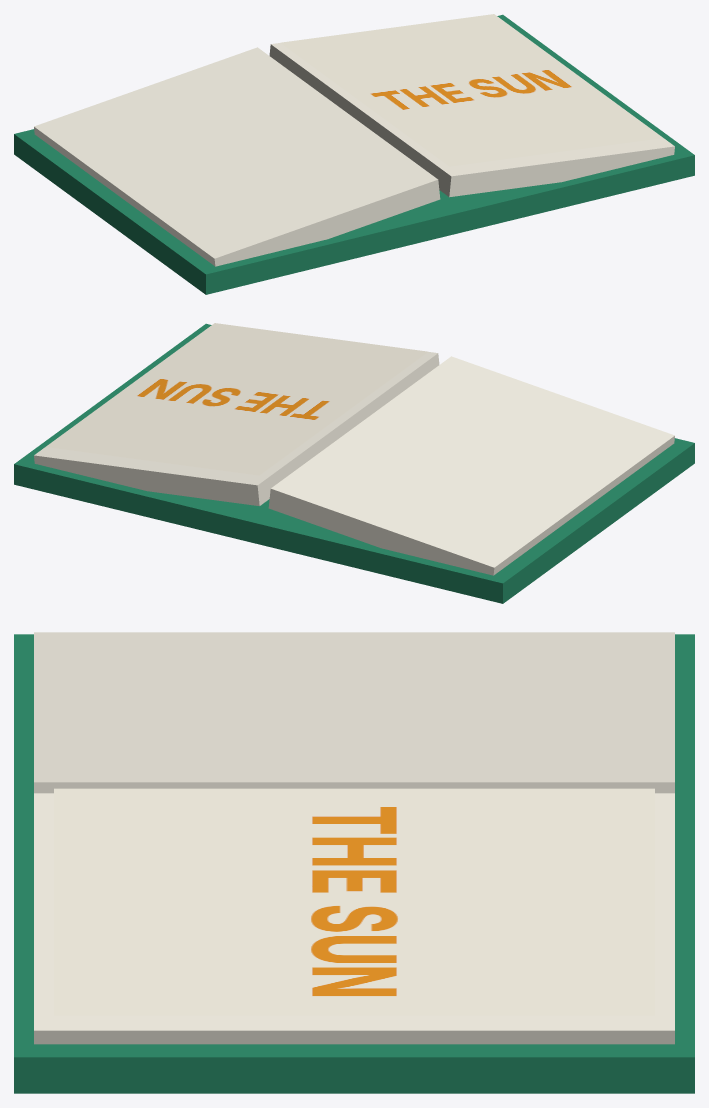
File: picture_book.glb
3 renders of one model, top to bottom at view 1: azimuth 30°, elevation 25°; view 2: azimuth 150°, elevation 25°; view 3: azimuth 270°, elevation 25°, orthographic. The views are drawn at different scales.
Visible parts, largest first — view 1: picture_book; view 2: picture_book; view 3: picture_book.
Boxes of the visible parts, x1,y1,x2,y2 form: picture_book: [14, 14, 694, 294]; picture_book: [14, 323, 694, 603]; picture_book: [14, 632, 694, 1093].
Bounding box in the file's own units: 0.5 × 0.0565 × 0.34.
3 materials, 1 textured.
